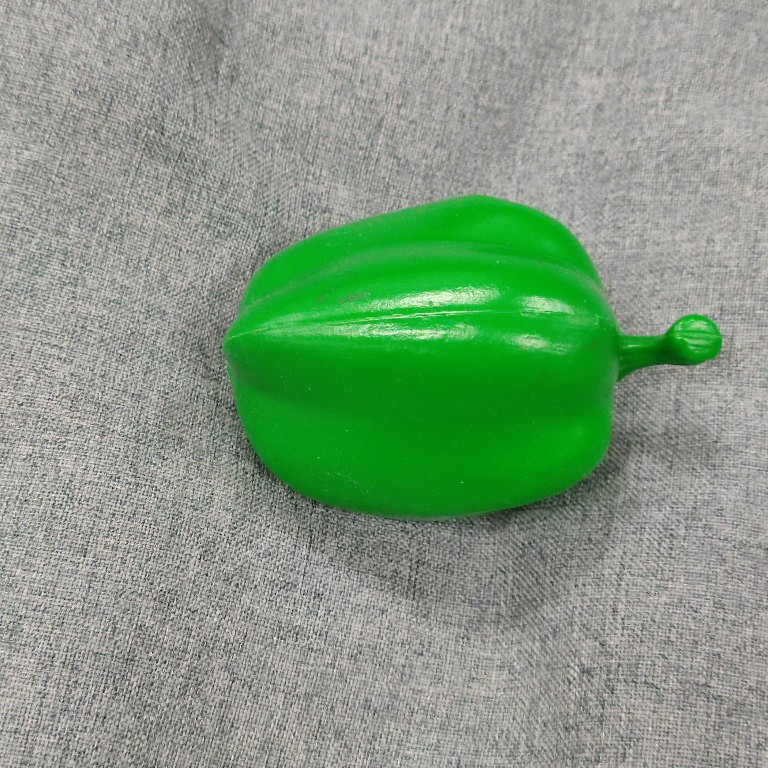fruit_pepper: (214, 189, 725, 523)
